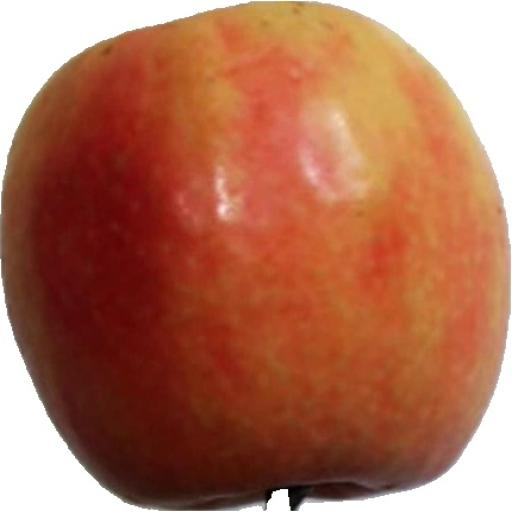apple-ripe: (0, 0, 512, 501)
